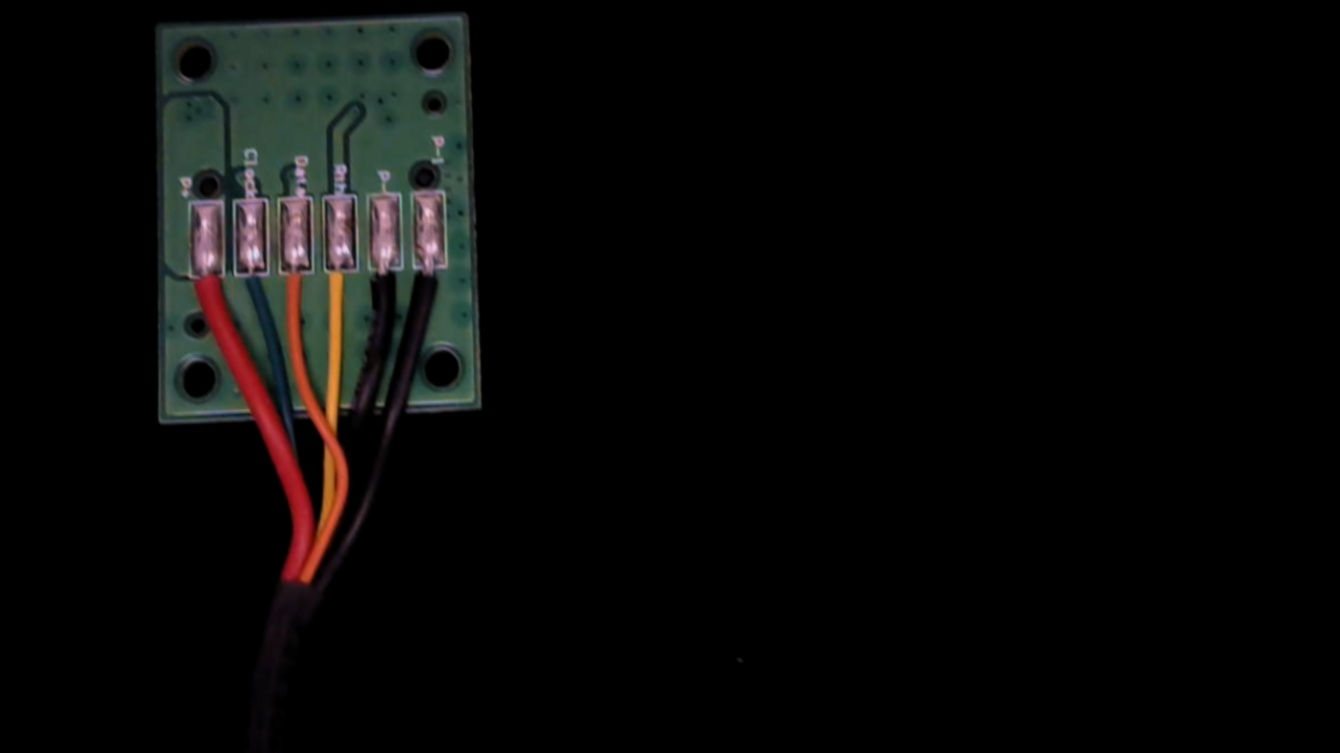Black: (365, 250, 403, 327)
Black1: (410, 248, 447, 330)
Green: (231, 254, 269, 325)
Orange: (276, 255, 314, 332)
Red: (185, 260, 226, 344)
Yellow: (318, 251, 355, 330)
